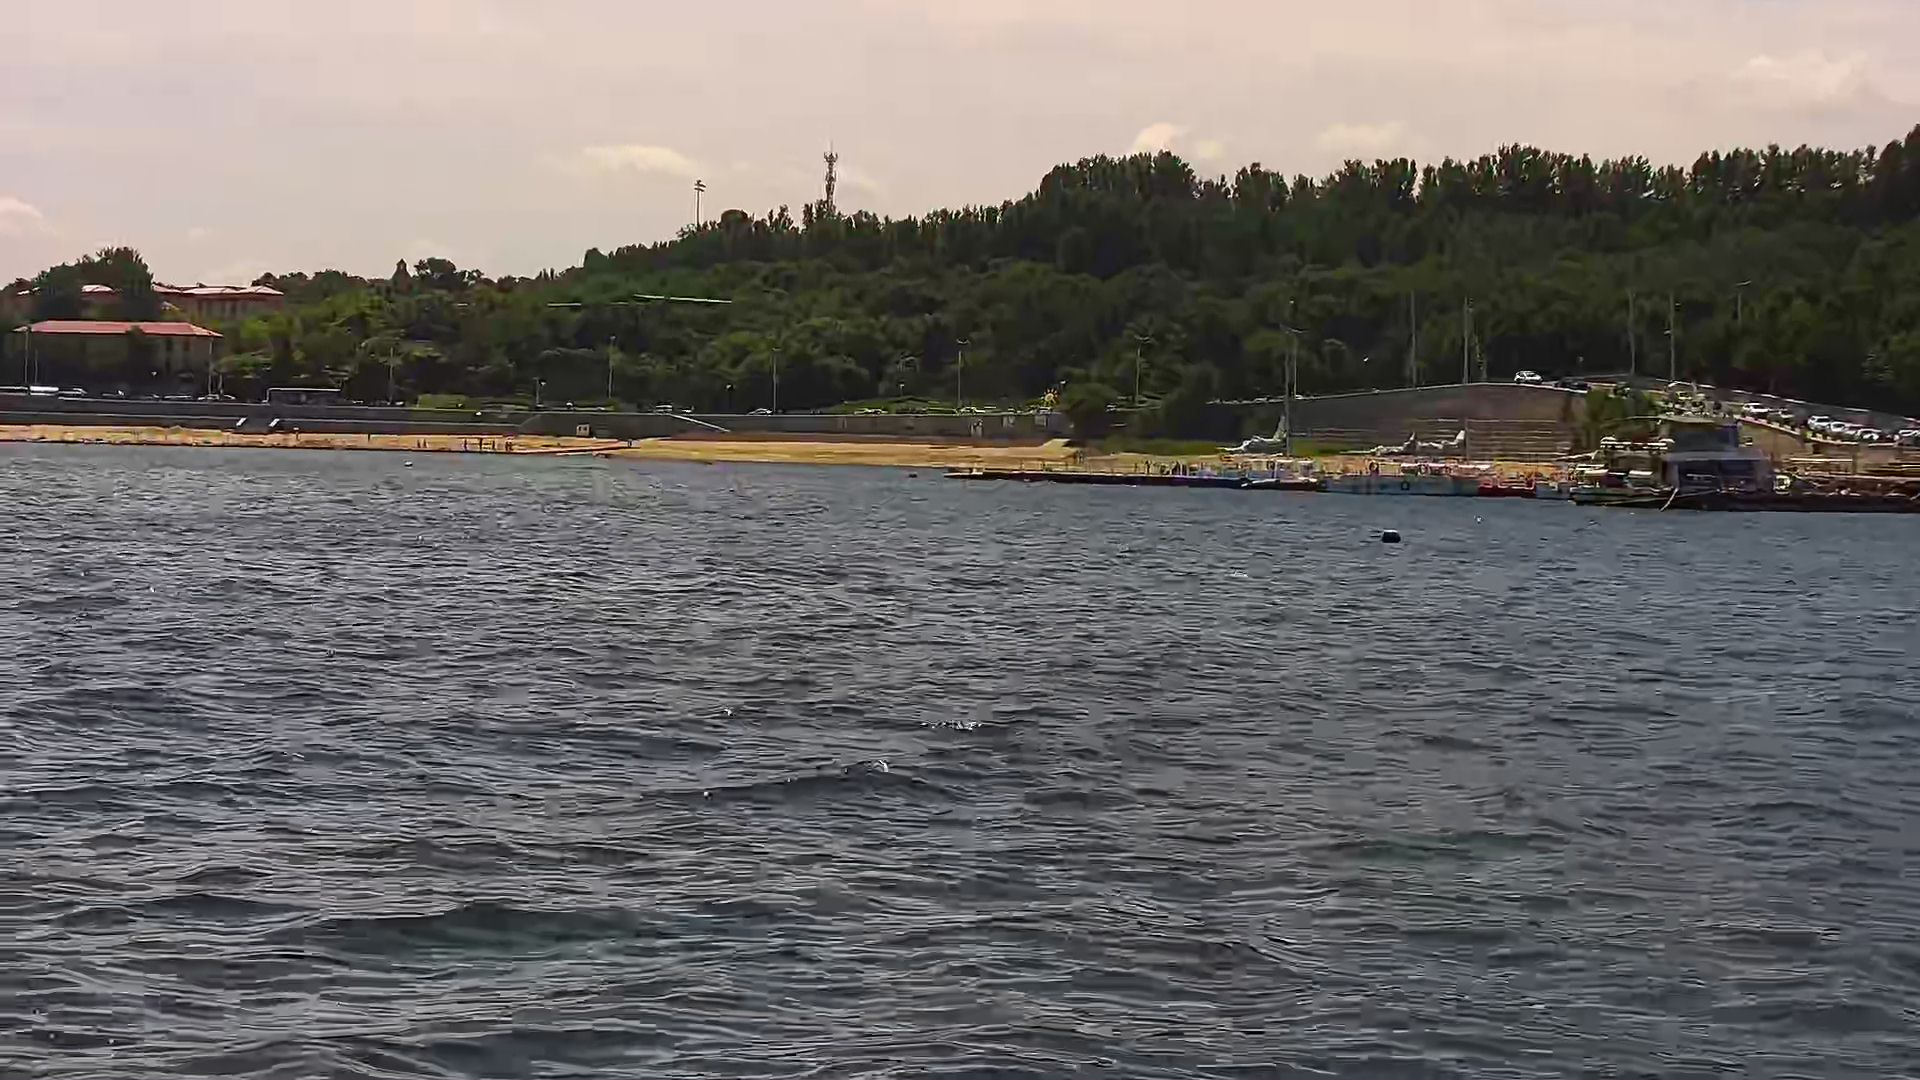harbor: (948, 444, 1259, 493)
rubbish: (1374, 518, 1410, 553)
